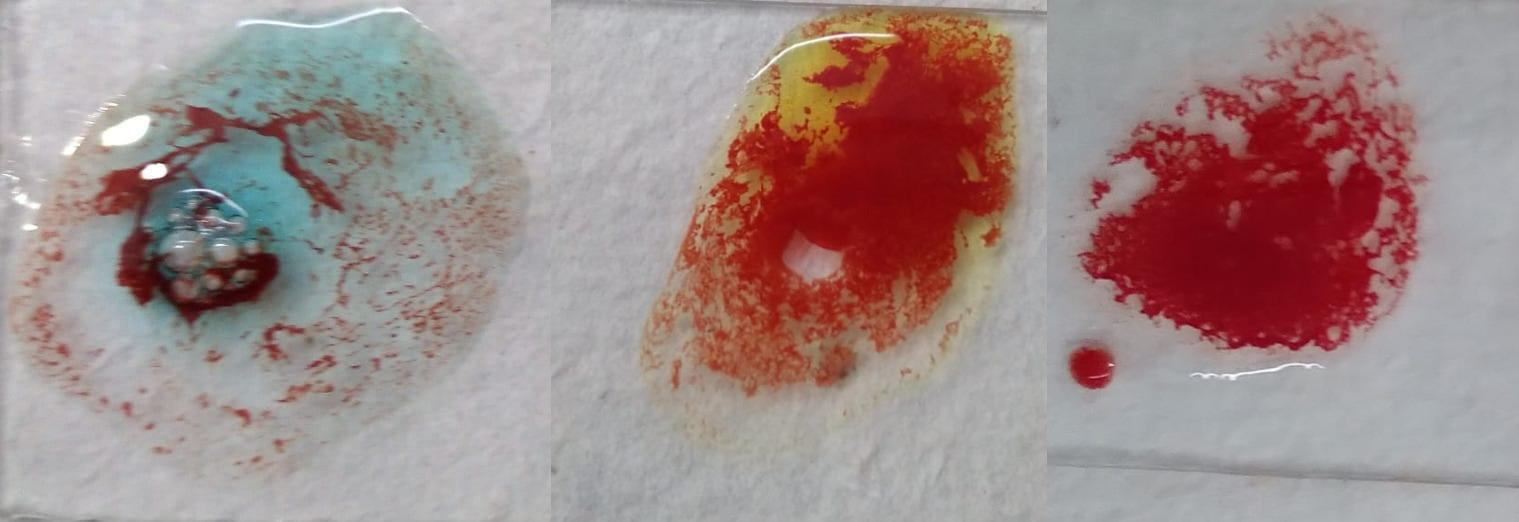A: (27, 20, 504, 471)
B: (659, 17, 1008, 395)
D: (1067, 22, 1425, 371)
